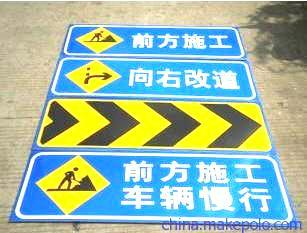sign: (33, 23, 274, 221)
